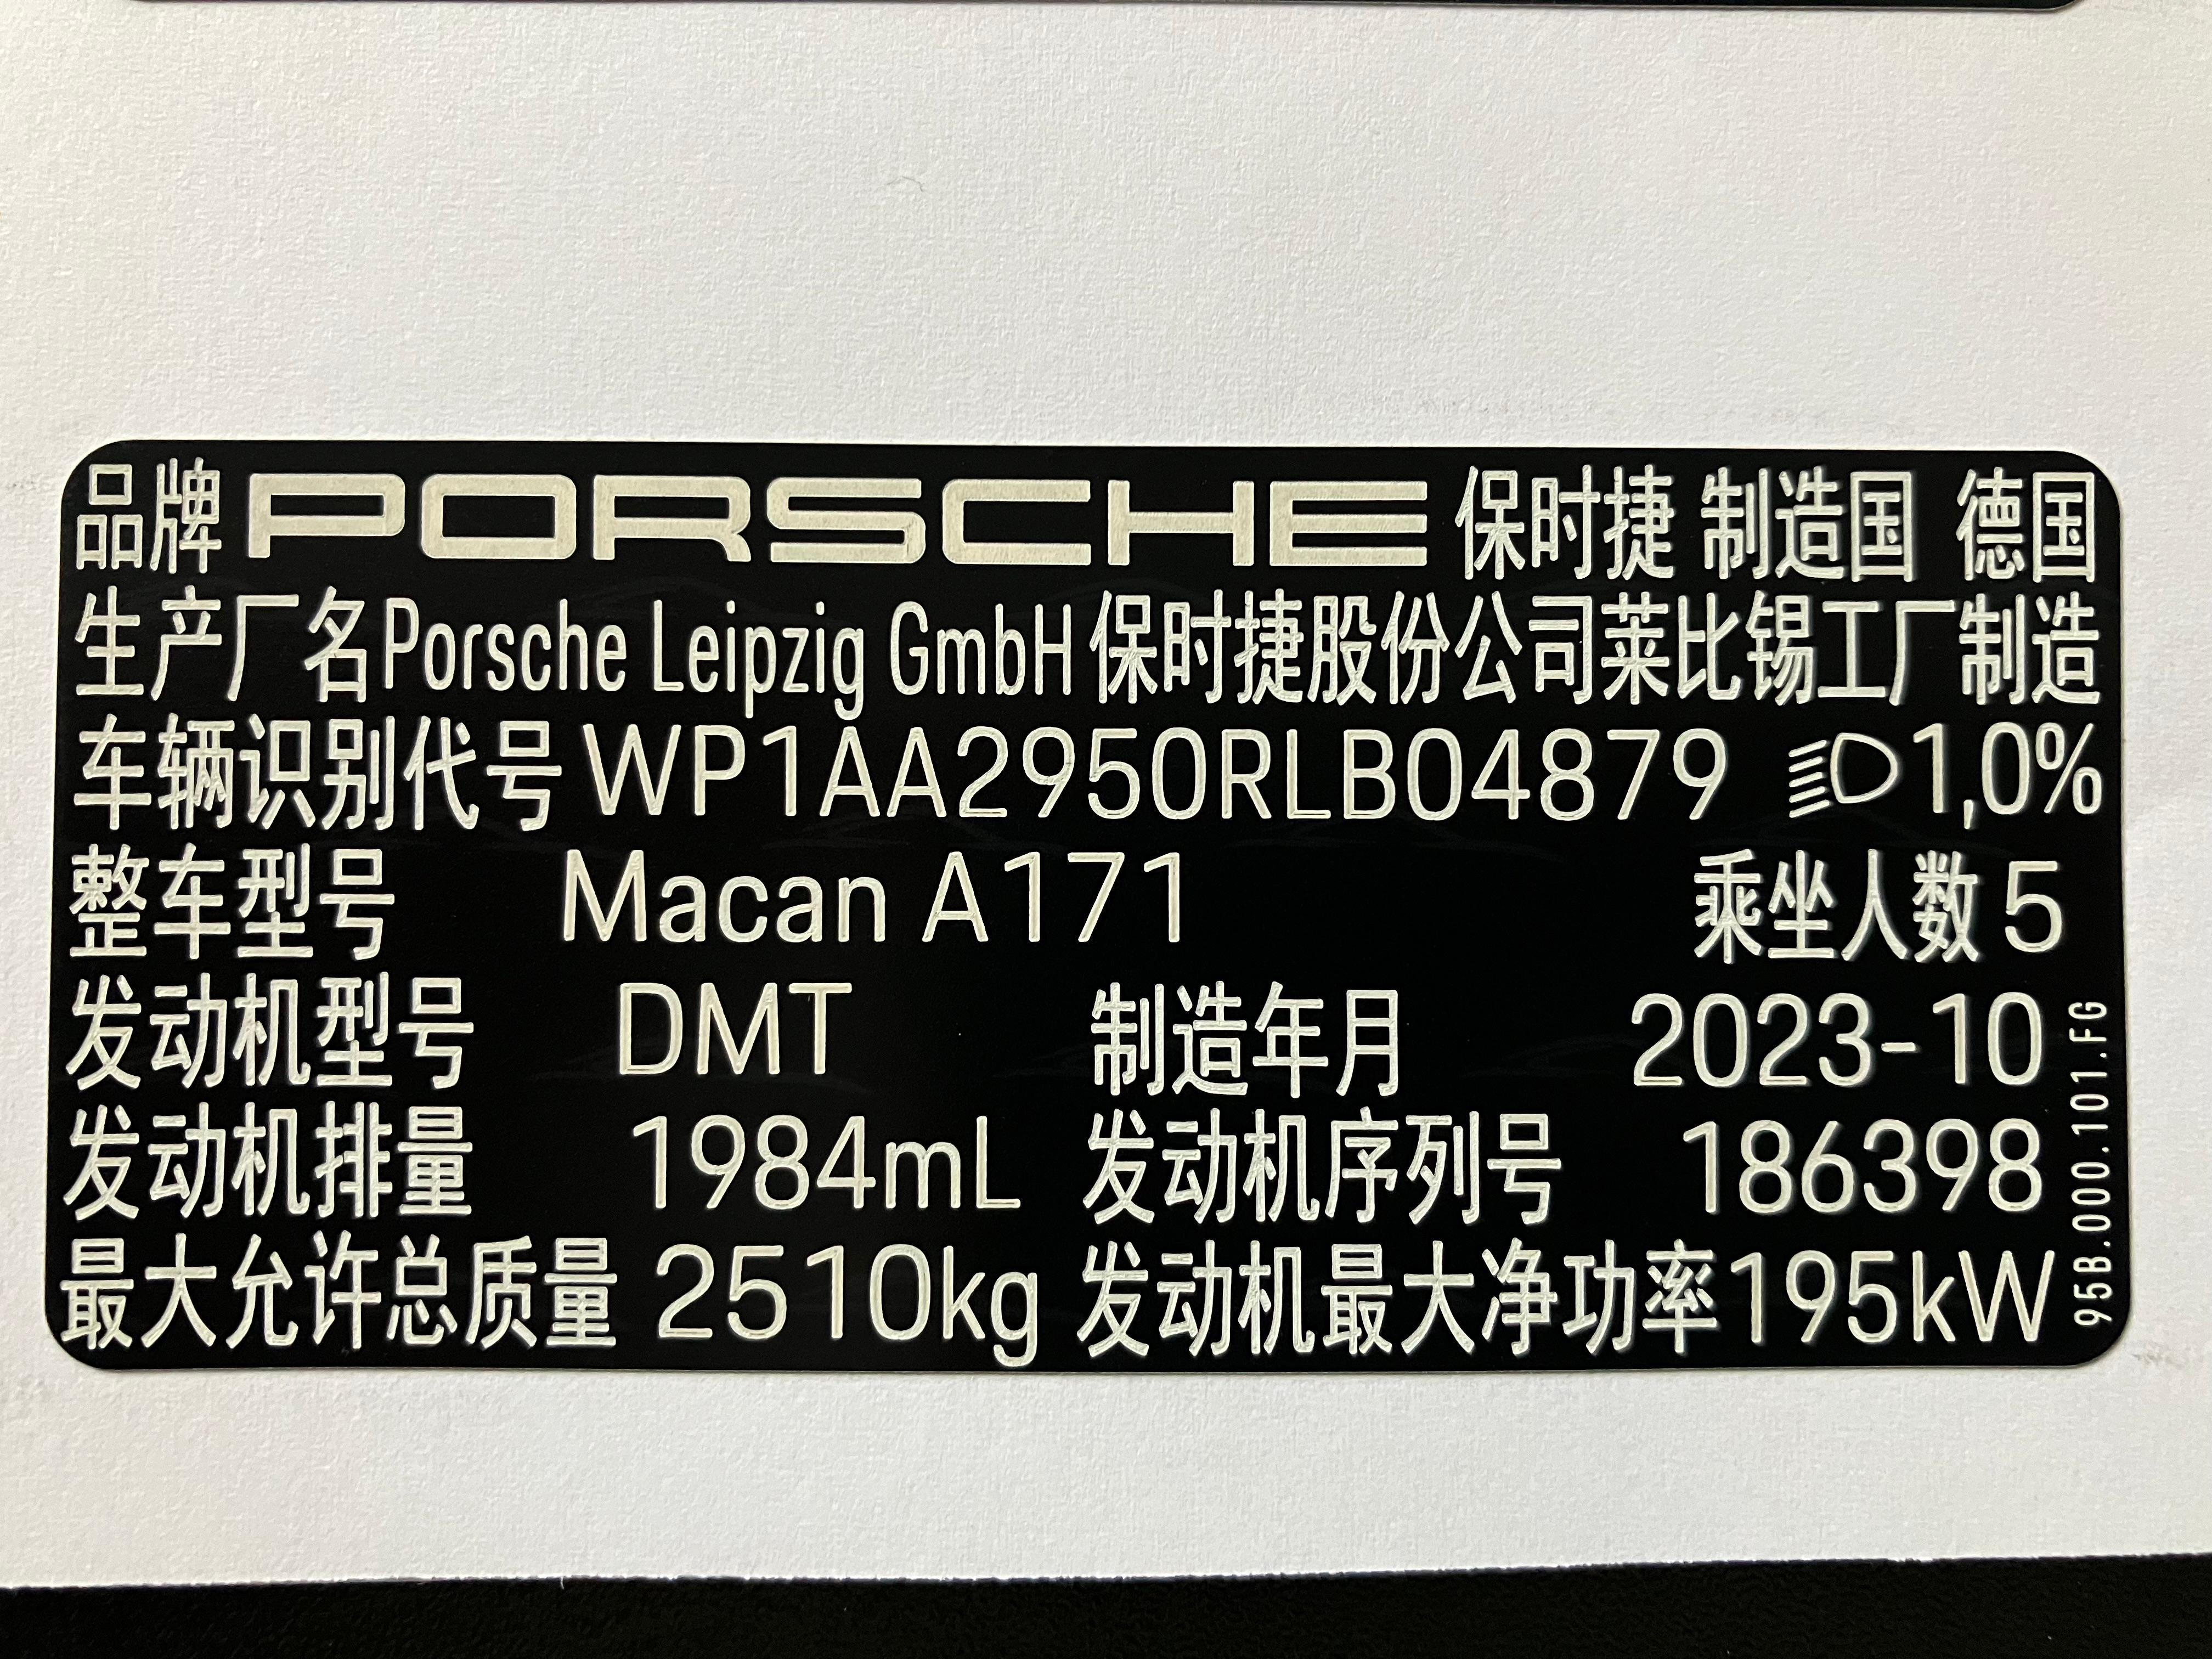Typlabel-China: (45, 439, 2130, 1371)
